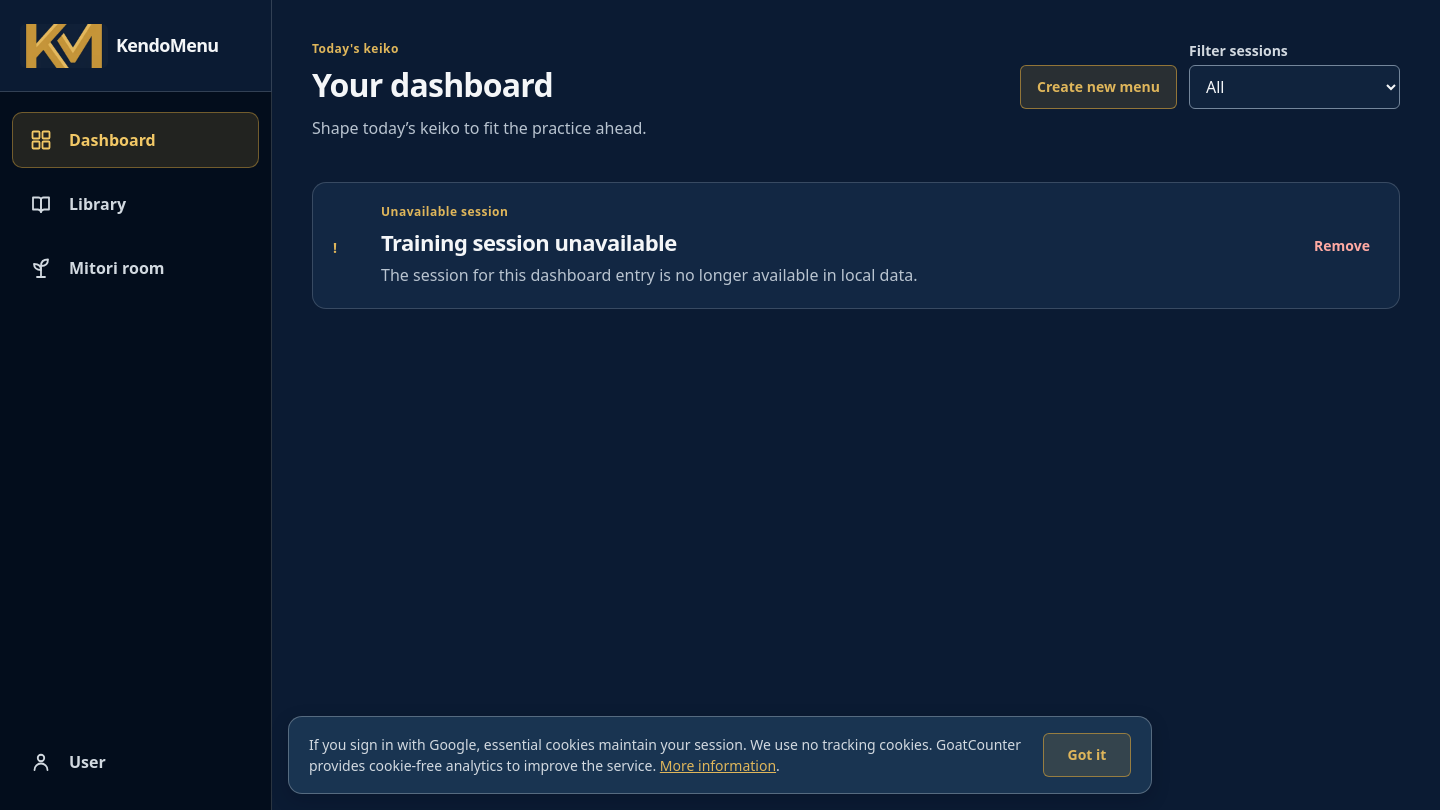
Test: KendoMenu application flows › keeps an unavailable persisted dashboard entry recoverable and removable
Expected: the text "no longer available in local data" is shown, [381,264,917,286]
Click the button "Remove" at (1342, 246), box [1305,224,1379,268]
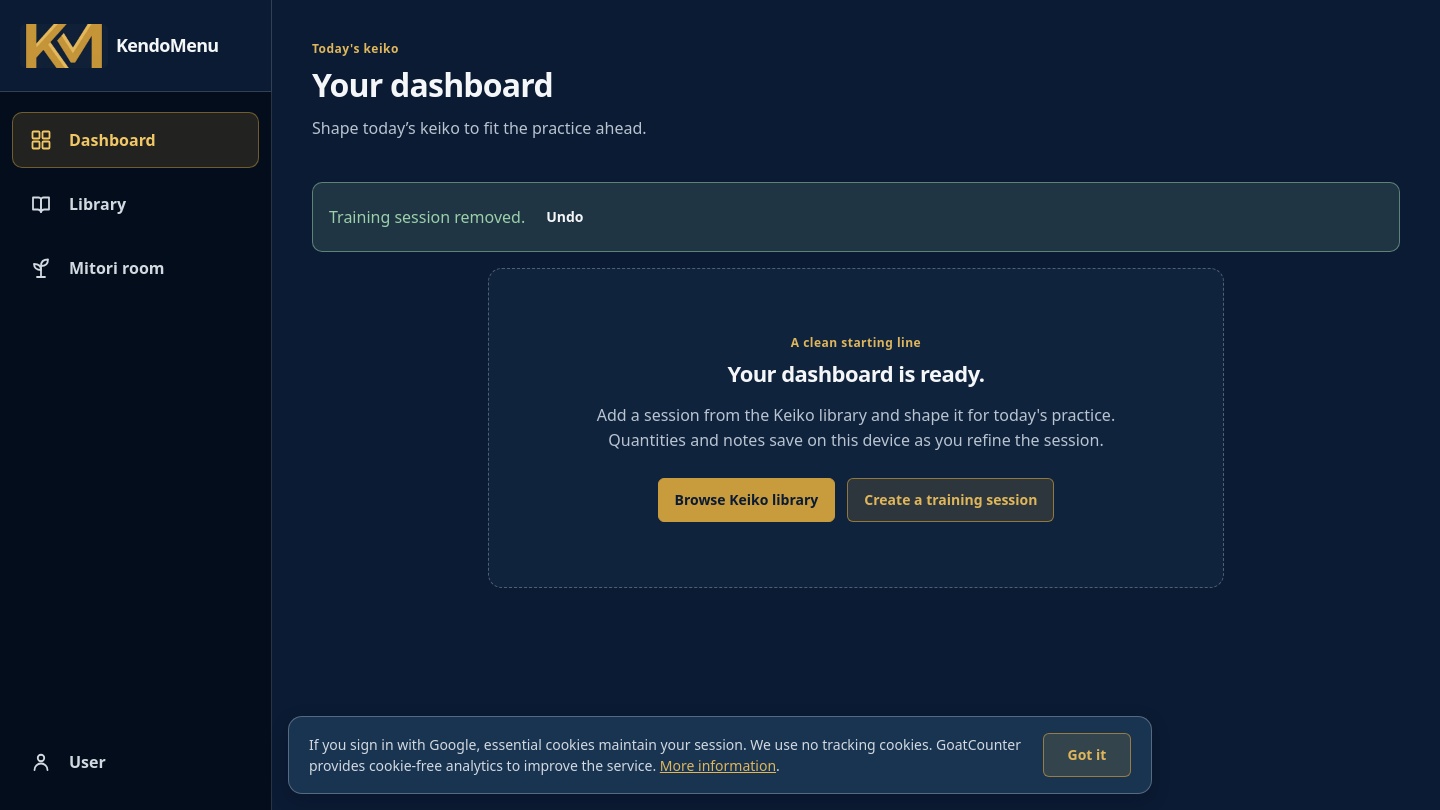
Expected: the heading "Training session unavailable" is gone
Expected: the button "Undo" is shown, [537,195,592,239]
